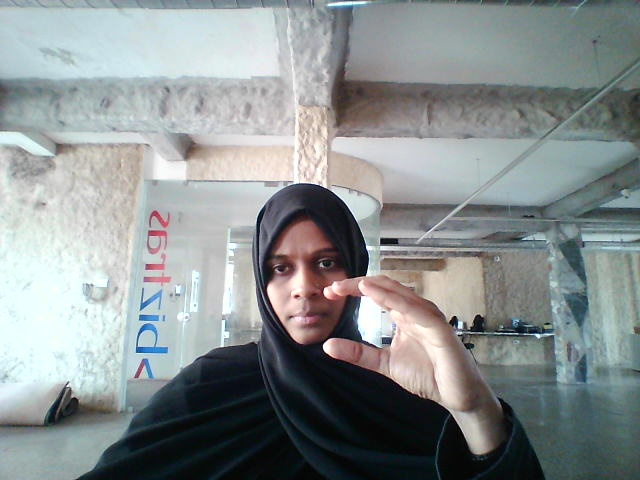NO: (320, 274, 498, 410)
